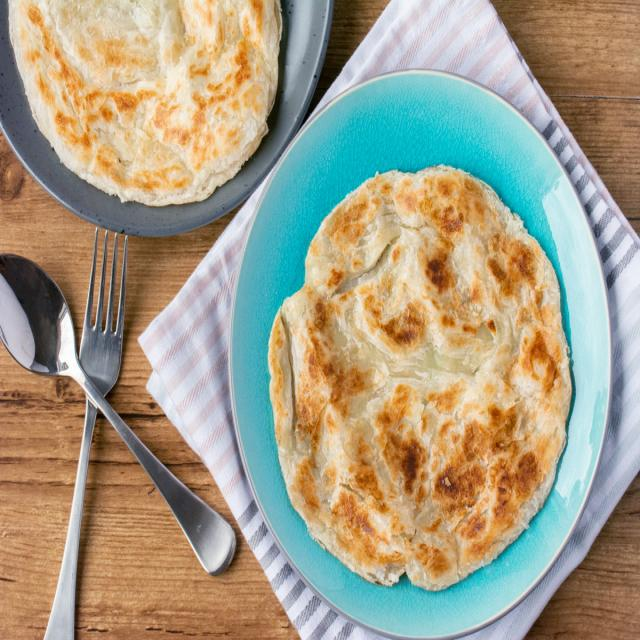Paratha: (283, 173, 565, 565), (3, 0, 285, 195)
